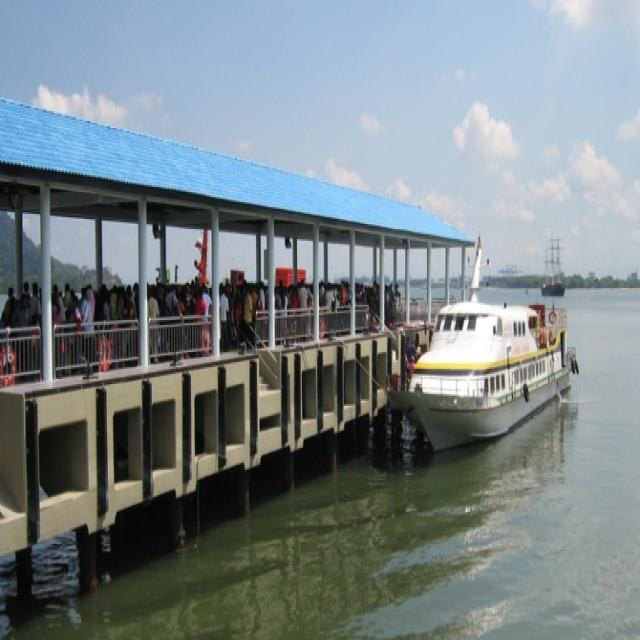houseboat: (414, 281, 581, 437)
